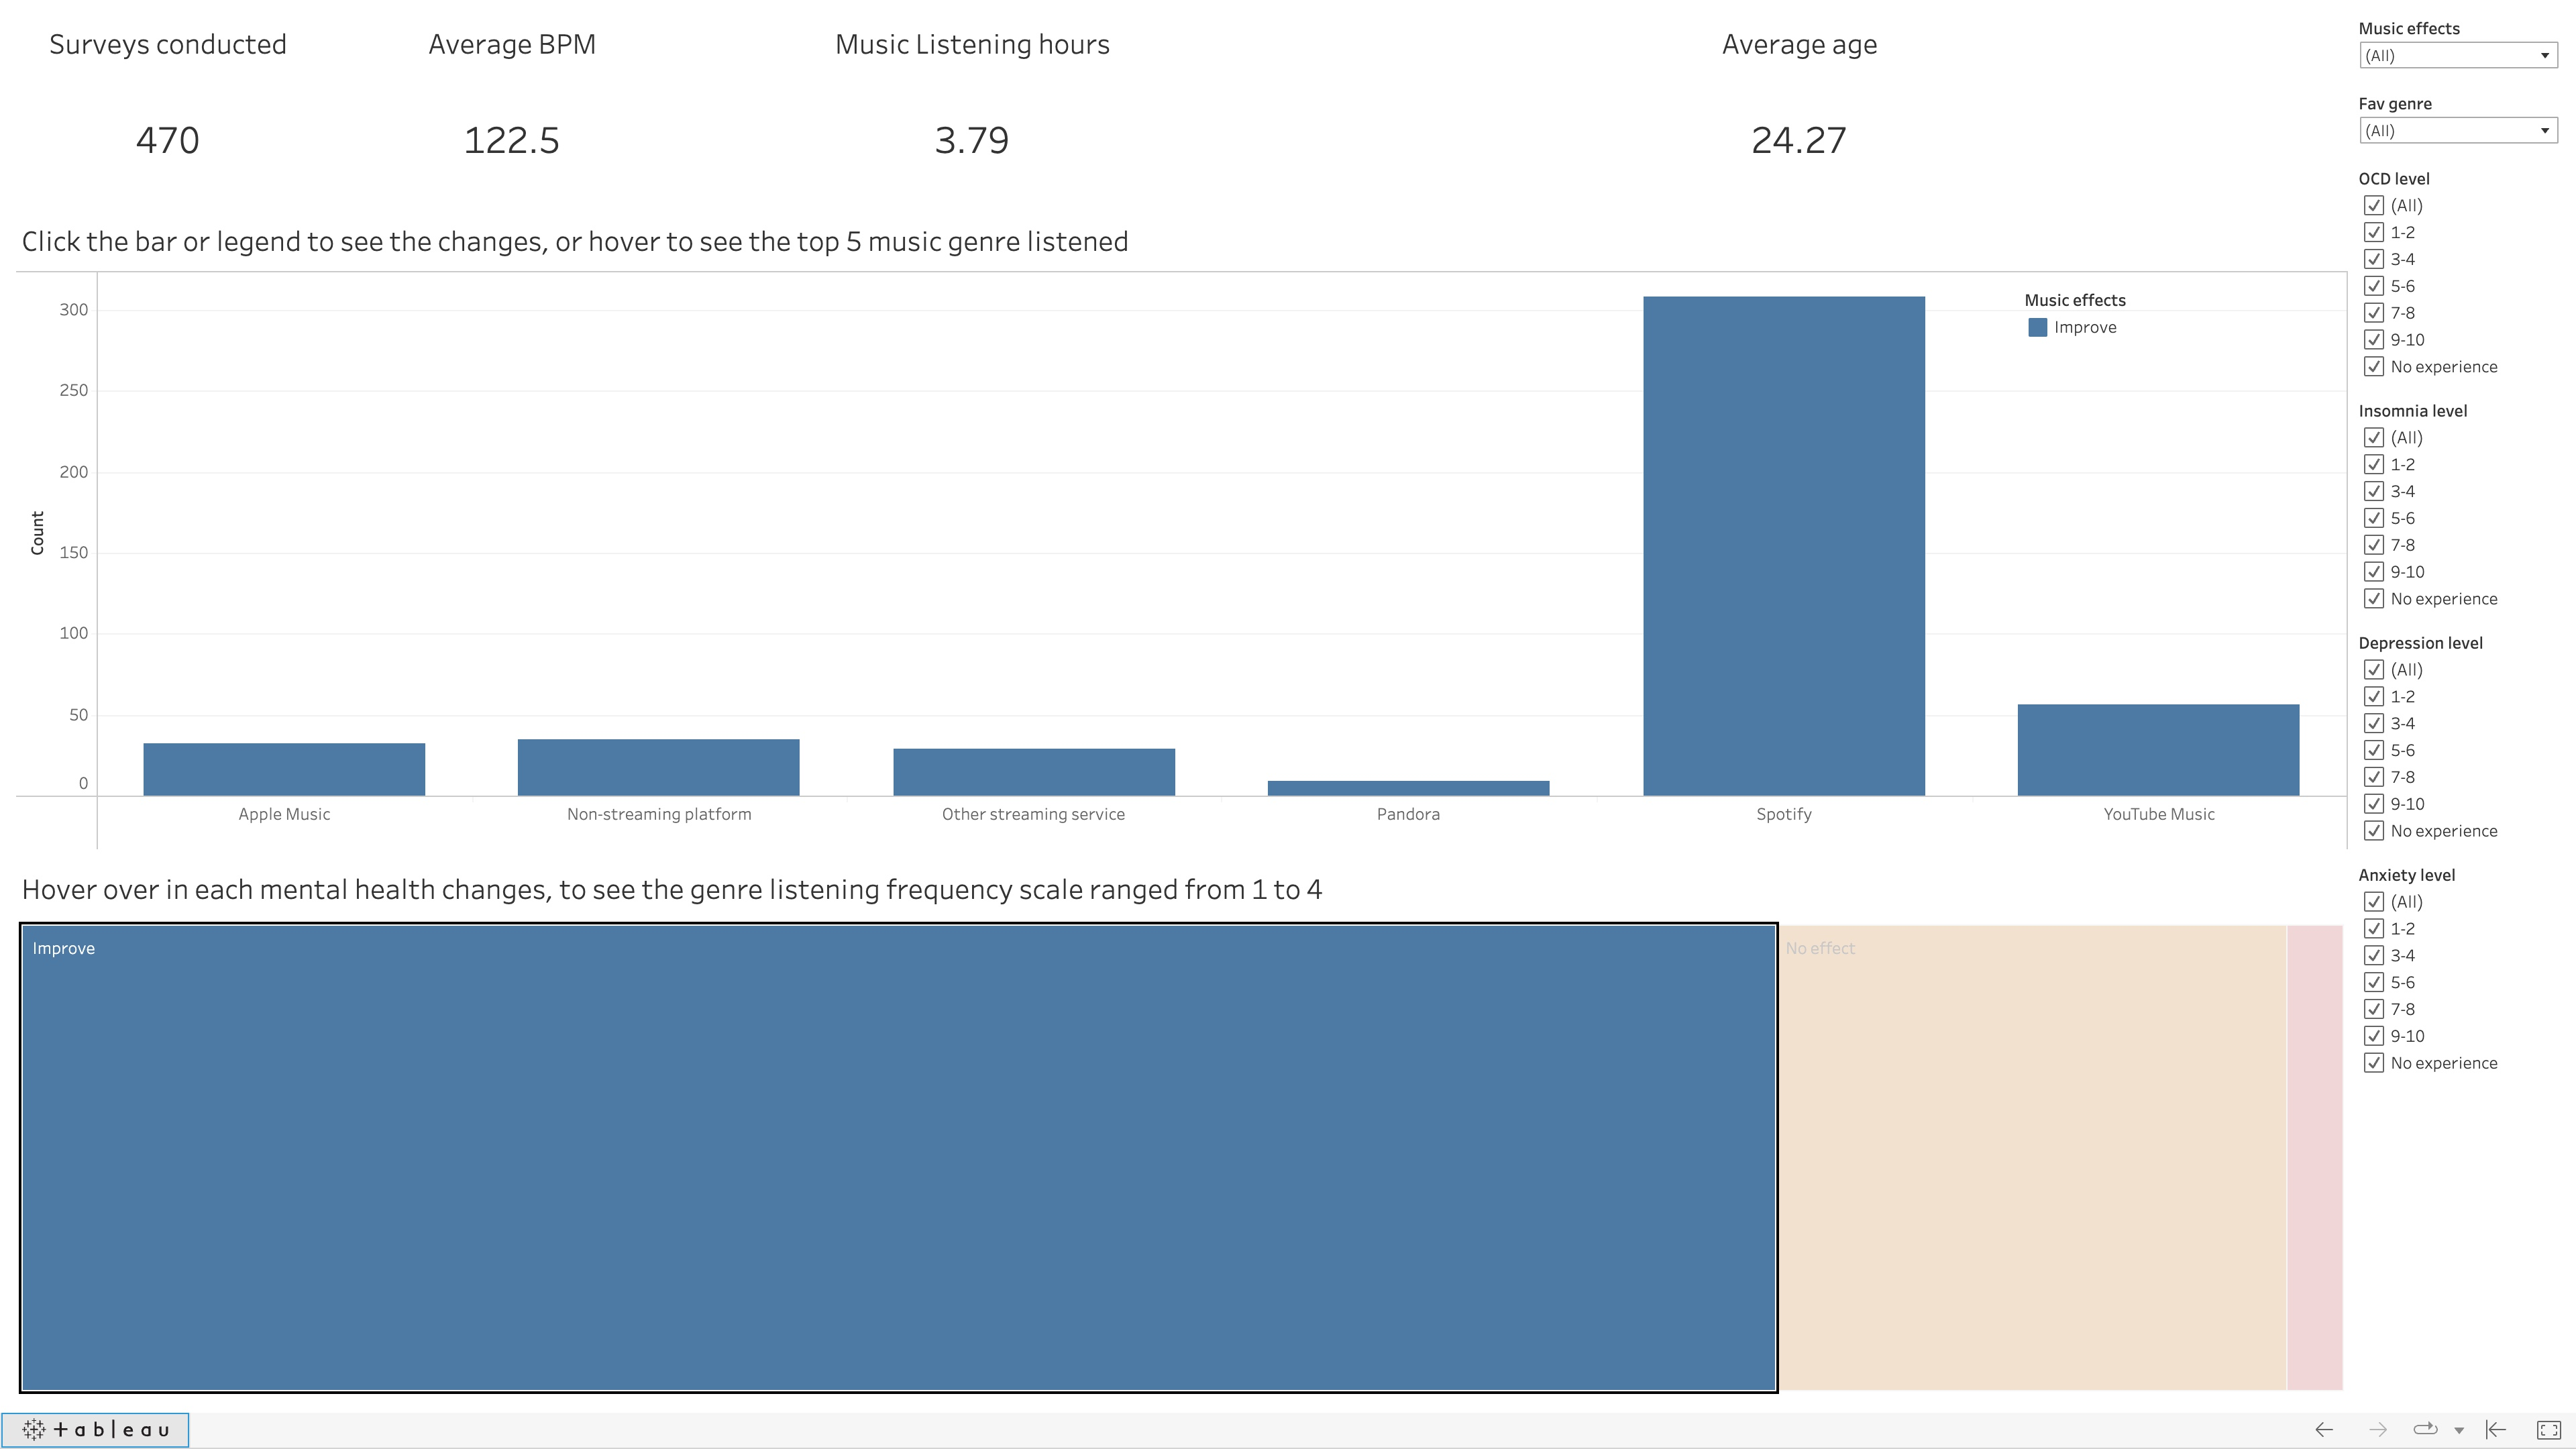

The page's visual inventory and layout, read from the dashboard file:
{"tool":"tableau","page":{"name":"Music dashboard","canvas":[1000,1000],"units":"permille","ordinal":0},"visuals":[{"type":"worksheet","title":"Surveys conducted","mark":"Automatic","box":[3.5,6.3,102.3,140.3]},{"type":"worksheet","title":"Average BPM","mark":"Automatic","box":[105.8,6.3,121,140.3]},{"type":"worksheet","title":"Music Listening hours","mark":"Automatic","box":[226.8,6.3,177.6,140.3]},{"type":"worksheet","title":"Average age","mark":"Automatic","box":[404.4,6.3,510,140.3]},{"type":"filter","title":"Listening frequency in each effect section","param":"[federated.1oci5pb0qlg0t219j3f3d1bt4whb].[none:Music effects:nk]","box":[914.4,6.3,82.1,48]},{"type":"filter","title":"Listening platform","param":"[federated.1oci5pb0qlg0t219j3f3d1bt4whb].[none:Fav genre:nk]","box":[914.4,54.3,82.1,48]},{"type":"filter","title":"Listening frequency in each effect section","param":"[federated.1oci5pb0qlg0t219j3f3d1bt4whb].[none:Calculation_859624622874152964:nk","box":[914.4,102.3,82.1,155]},{"type":"worksheet","title":"Listening platform","mark":"Automatic","rows":["Primary streaming service"],"cols":["Music effects","Primary streaming service"],"box":[3.5,146.6,910.9,459.1]},{"type":"legend","title":"Listening platform","param":"[federated.1oci5pb0qlg0t219j3f3d1bt4whb].[none:Music effects:nk]","box":[857.6,203,50.9,107]},{"type":"filter","title":"Listening frequency in each effect section","param":"[federated.1oci5pb0qlg0t219j3f3d1bt4whb].[none:Calculation_859624622873759747:nk","box":[914.4,257.3,82.1,155]},{"type":"filter","title":"Listening frequency in each effect section","param":"[federated.1oci5pb0qlg0t219j3f3d1bt4whb].[none:Calculation_859624622873341953:nk","box":[914.4,412.2,82.1,155]},{"type":"filter","title":"Listening frequency in each effect section","param":"[federated.1oci5pb0qlg0t219j3f3d1bt4whb].[none:Calculation_859624622870994944:nk","box":[914.4,567.2,82.1,155]},{"type":"worksheet","title":"Listening frequency in each effect section","mark":"Automatic","box":[3.5,605.7,910.9,388]}]}

Visuals, with their boxes on the dashboard's canvas, which has no fixed pixel size, in thousandths of its width and height (x1, y1, x2, y2). These are canvas units, not pixel positions in the 2576x1449 screenshot, which may show the page scaled, cropped or inside an application window:
"Surveys conducted" worksheet: 4:6:106:147
"Average BPM" worksheet: 106:6:227:147
"Music Listening hours" worksheet: 227:6:404:147
"Average age" worksheet: 404:6:914:147
"Listening frequency in each effect section" filter: 914:6:996:54
"Listening platform" filter: 914:54:996:102
"Listening frequency in each effect section" filter: 914:102:996:257
"Listening platform" worksheet: 4:147:914:606
"Listening platform" legend: 858:203:908:310
"Listening frequency in each effect section" filter: 914:257:996:412
"Listening frequency in each effect section" filter: 914:412:996:567
"Listening frequency in each effect section" filter: 914:567:996:722
"Listening frequency in each effect section" worksheet: 4:606:914:994
